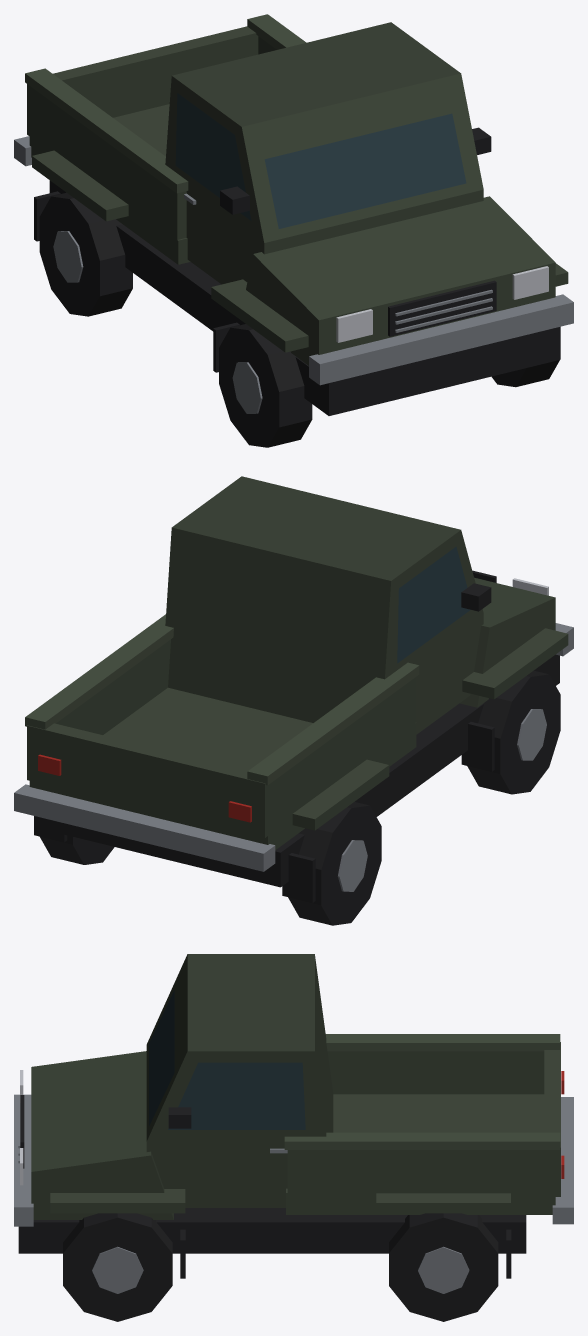
The model's file is S6_ranger_truck_a.glb.
The picture shows the model from 3 angles, top to bottom: view 1: azimuth 30°, elevation 25°; view 2: azimuth 150°, elevation 25°; view 3: azimuth 270°, elevation 25°; orthographic projection. The views are drawn at different scales.
Visible parts, largest first — view 1: S6_ranger_truck_a; view 2: S6_ranger_truck_a; view 3: S6_ranger_truck_a.
Boxes of the visible parts, x1,y1,x2,y2 form: S6_ranger_truck_a: (14,14,573,447); S6_ranger_truck_a: (14,476,573,925); S6_ranger_truck_a: (14,954,573,1321).
Size of the model in its own units: 2 by 1.89 by 3.73.
